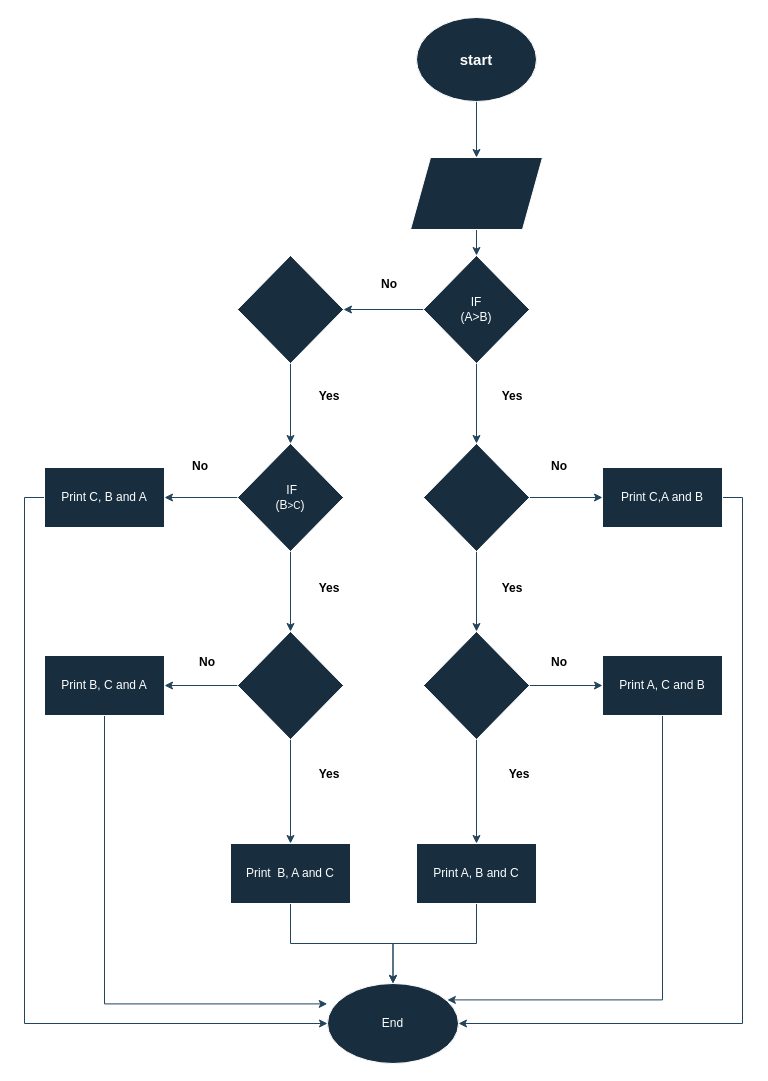
The diagram is 768 pixels wide and 1081 high, and some of its shapes have lost their labels. The centre of each missing label's shape, as x and y in pixels:
"Else IF (B> A )" goes at point 290,309.
"IF (A >C )" goes at point 290,685.
"IF (A>C)" goes at point 476,497.
"IF (B>C)" goes at point 476,685.
"Input A,B and C" goes at point 476,193.
